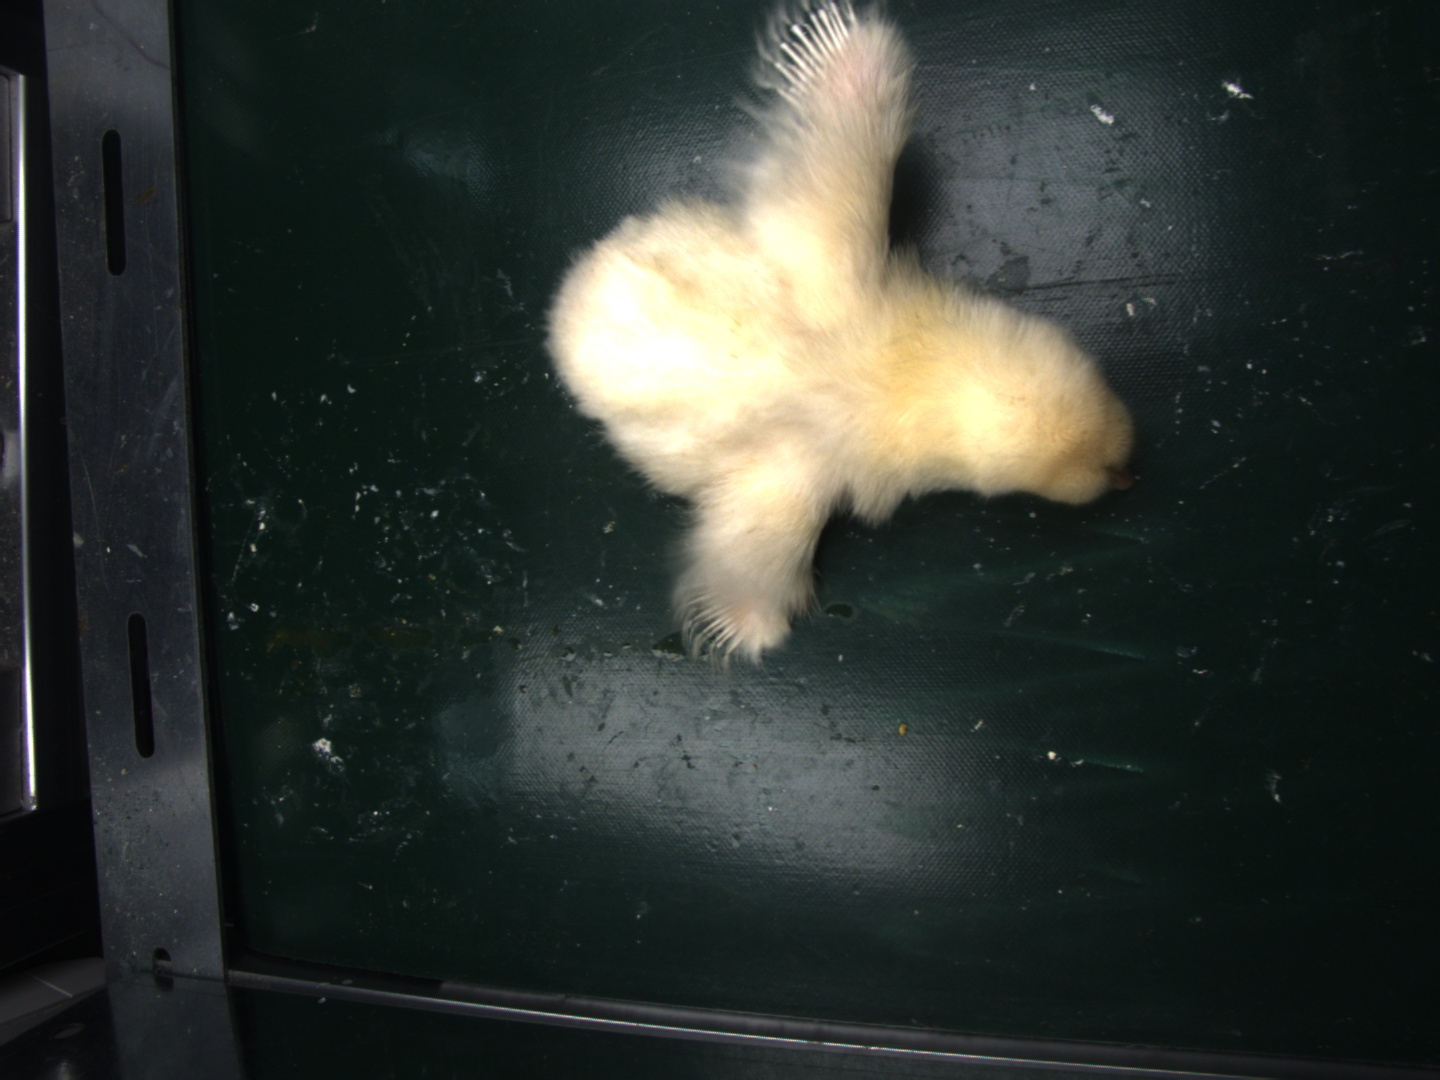male: (773, 2, 852, 102), (687, 587, 751, 660)
